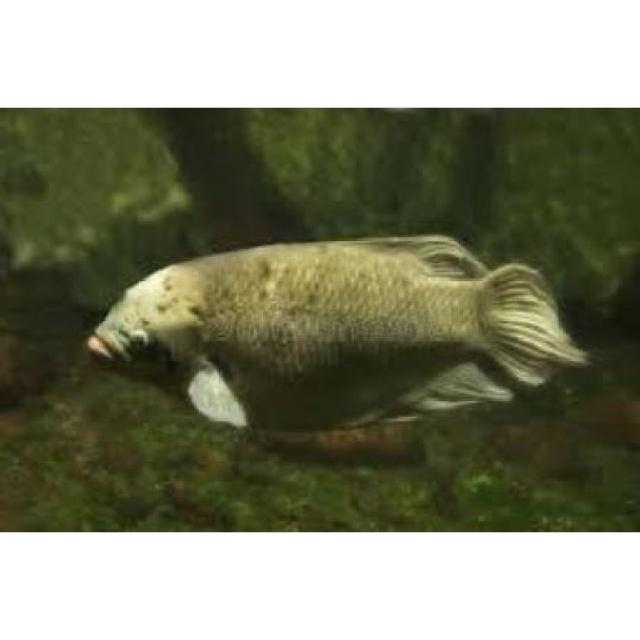gurame: (94, 228, 540, 430)
